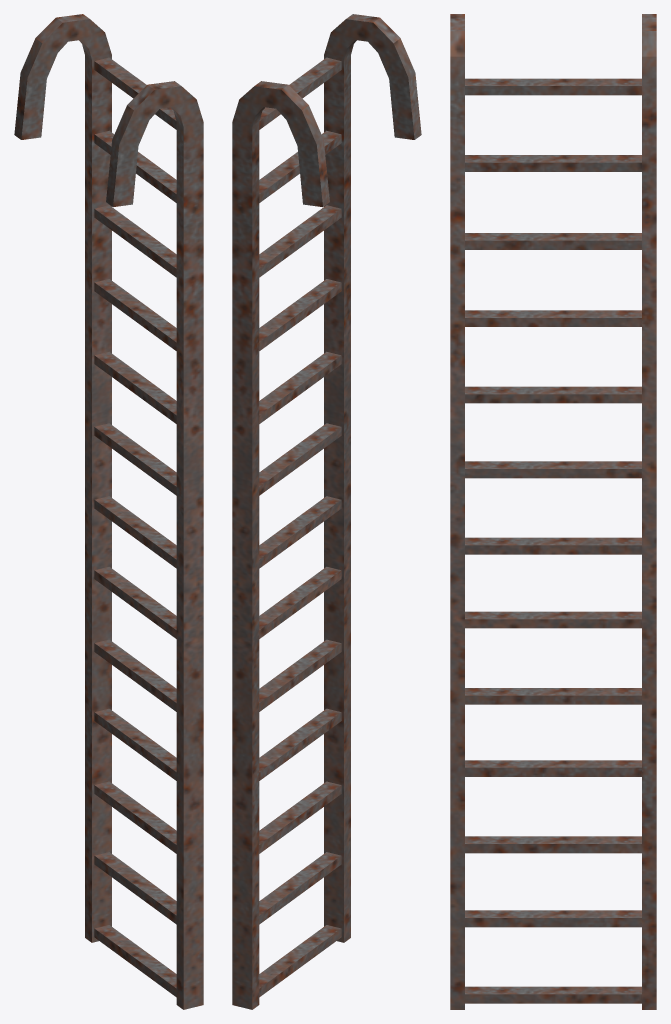
The model's file is SM_NeoLD_11_Ladder_00.fbx.
The picture shows the model from 3 angles, left to right: view 1: azimuth 30°, elevation 25°; view 2: azimuth 150°, elevation 25°; view 3: azimuth 270°, elevation 25°; orthographic projection. The views are drawn at different scales.
Parts seen in each view (by area): view 1: SM_NeoLD_11_Ladder_00; view 2: SM_NeoLD_11_Ladder_00; view 3: SM_NeoLD_11_Ladder_00.
Boxes of the visible parts, x1,y1,x2,y2 form: SM_NeoLD_11_Ladder_00: (14, 14, 203, 1009); SM_NeoLD_11_Ladder_00: (232, 14, 421, 1009); SM_NeoLD_11_Ladder_00: (450, 14, 656, 1009).
Size of the model in its own units: 79.04 by 773 by 149.
